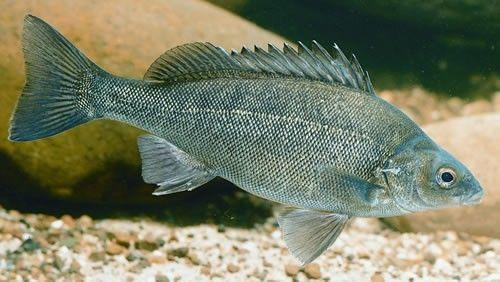Silver Perch: (12, 19, 494, 261)
